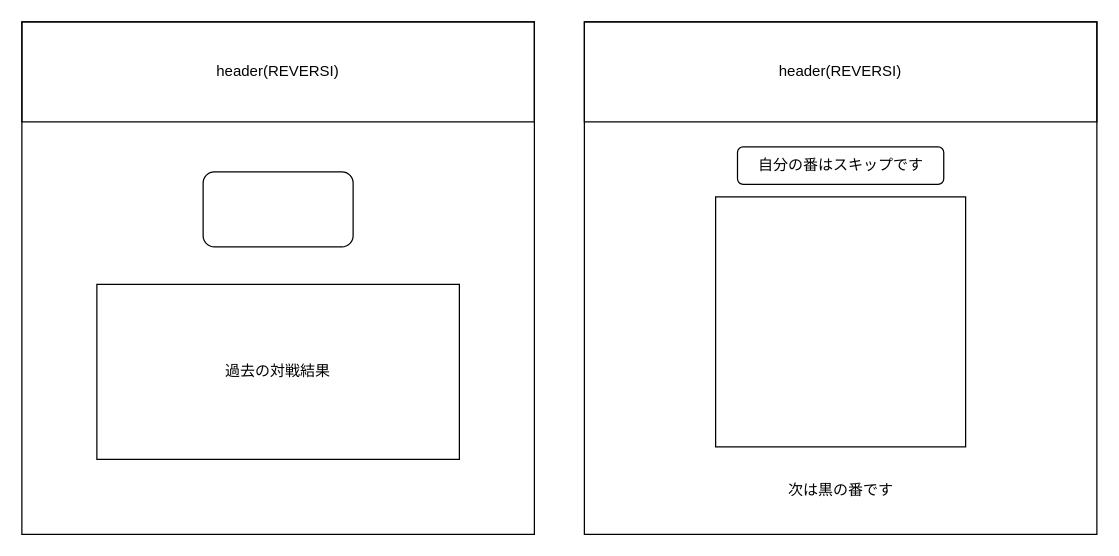
This 1119x556 diagram has some shape labels left out. Each missing label, with the centre of its shape:
"対戦する" belongs at pixel 277 209.
"盤面" belongs at pixel 840 321.
